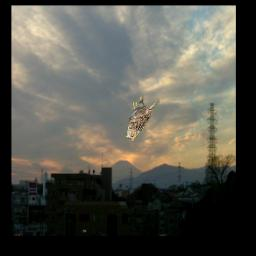Sparrow: (124, 96, 160, 141)
